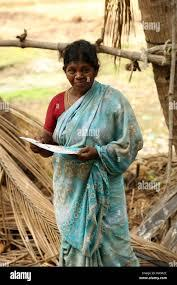Human: (34, 39, 145, 270)
